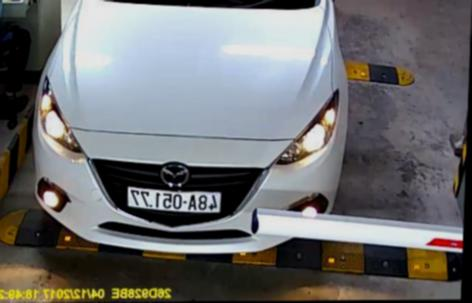License_Plate: (125, 187, 223, 213)
